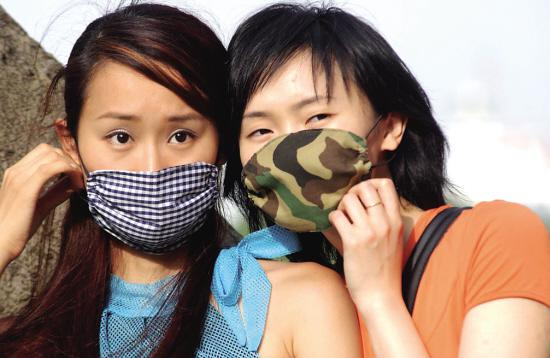OK: (234, 89, 372, 227)
WRONG: (80, 104, 223, 247)
